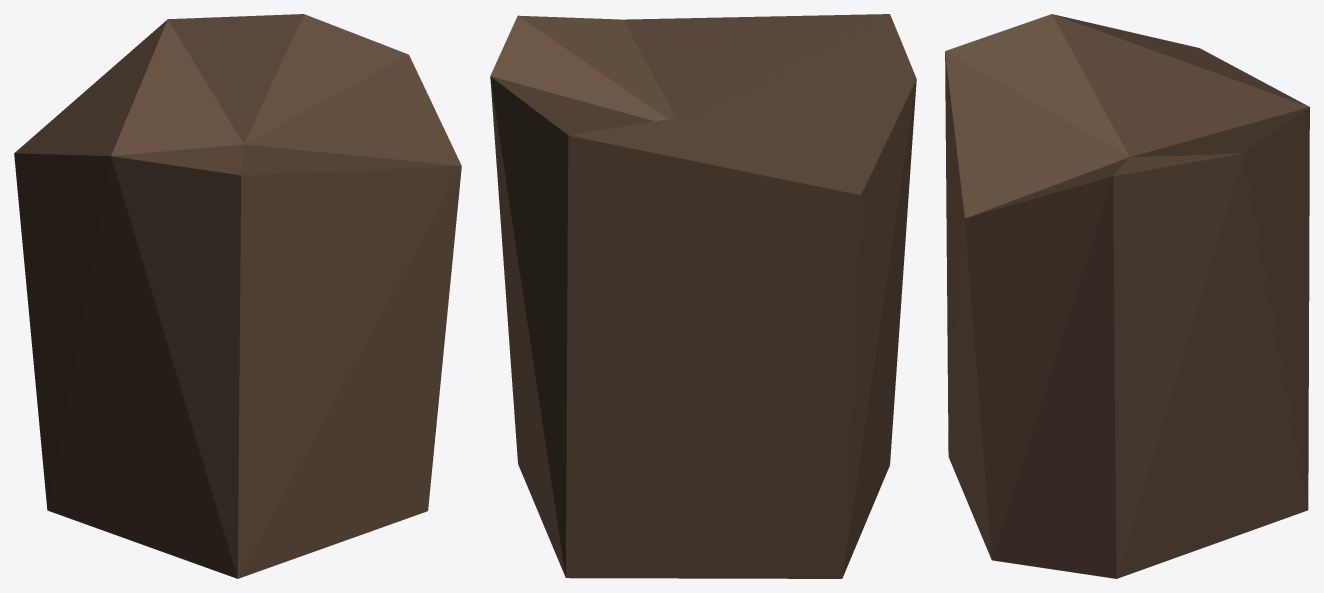
Rendered from Prop_GrainBagBLOD2.fbx.
The picture shows the model from 3 angles, left to right: view 1: azimuth 30°, elevation 25°; view 2: azimuth 150°, elevation 25°; view 3: azimuth 270°, elevation 25°; orthographic projection. The views are drawn at different scales.
Parts seen in each view (by area): view 1: Prop_GrainBagBLOD2; view 2: Prop_GrainBagBLOD2; view 3: Prop_GrainBagBLOD2.
Boxes of the visible parts, x1=… form: Prop_GrainBagBLOD2: x1=14, y1=14, x2=461, y2=578; Prop_GrainBagBLOD2: x1=490, y1=14, x2=916, y2=578; Prop_GrainBagBLOD2: x1=945, y1=14, x2=1309, y2=578.
Bounding box in the file's own units: 51.38 × 56.6 × 45.89.
